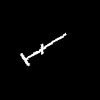double_crochet: (21, 33, 65, 65)
